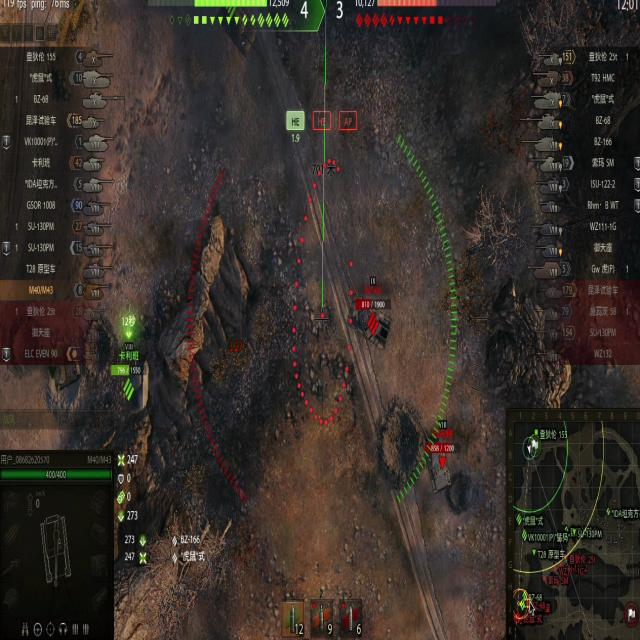tank: (349, 286, 398, 353)
